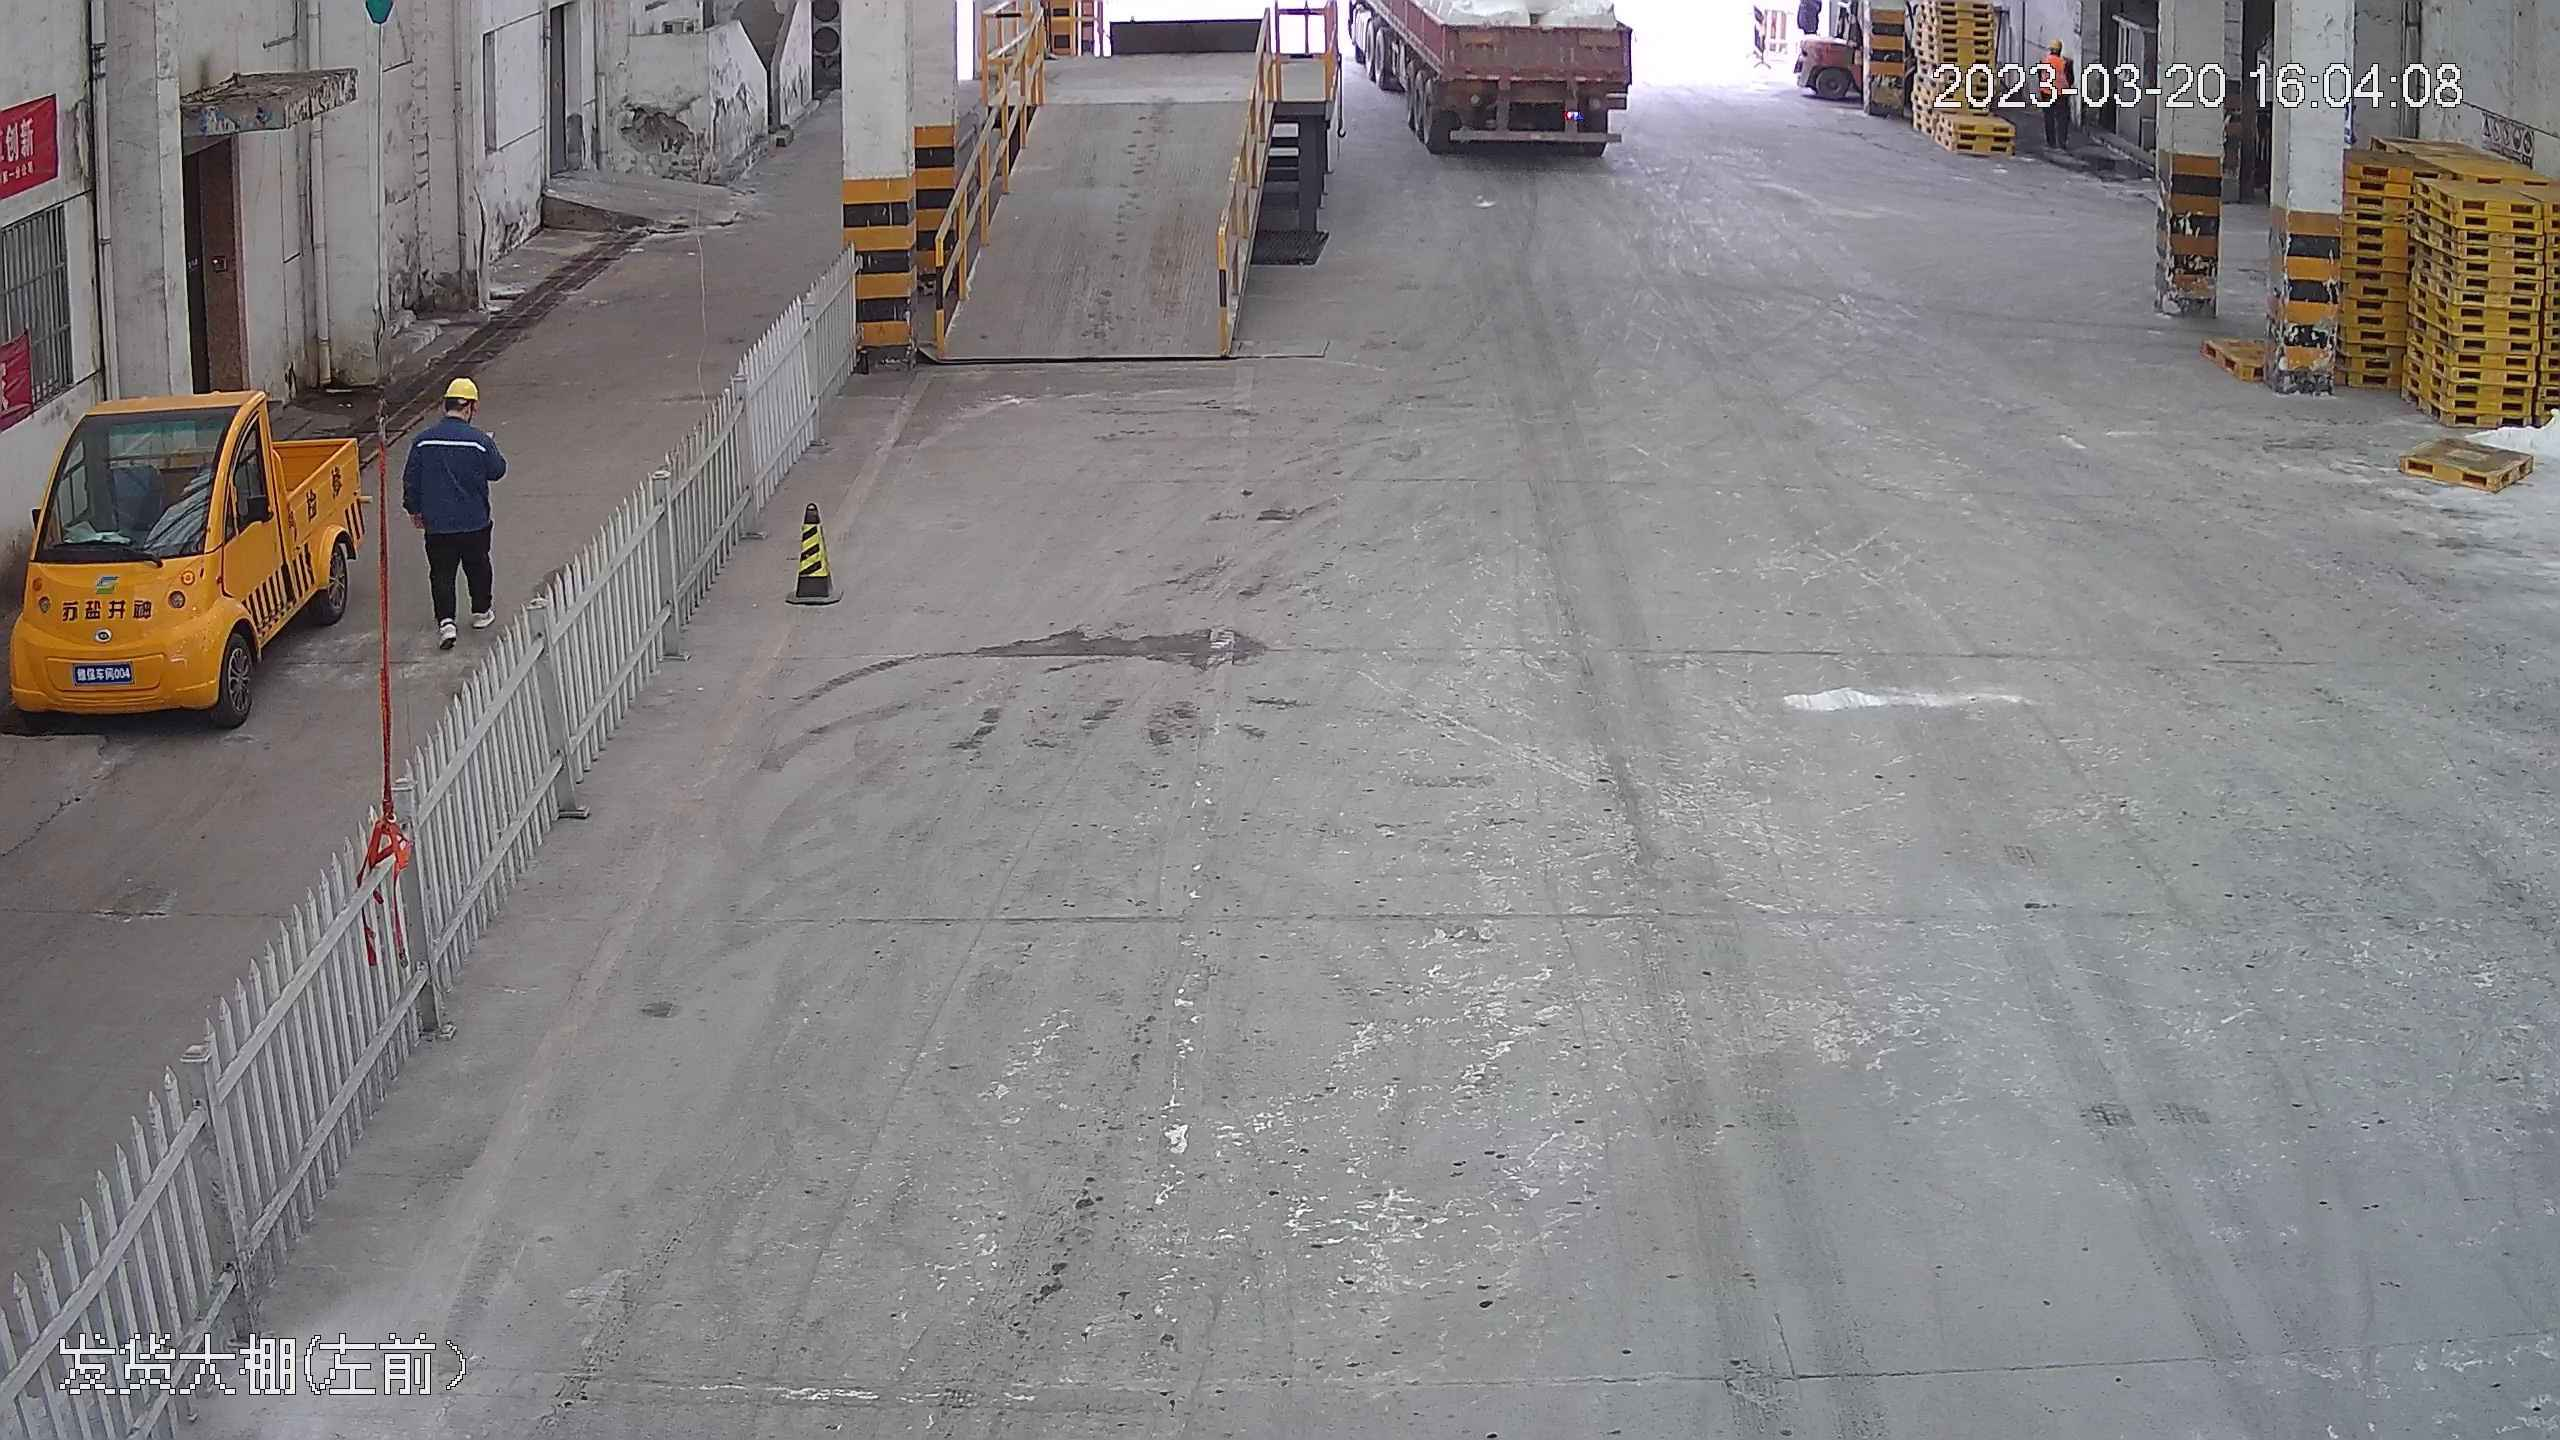head: (409, 375, 492, 452)
helmet: (438, 374, 481, 407)
people: (398, 372, 508, 639)
truck: (1361, 3, 1641, 159)
